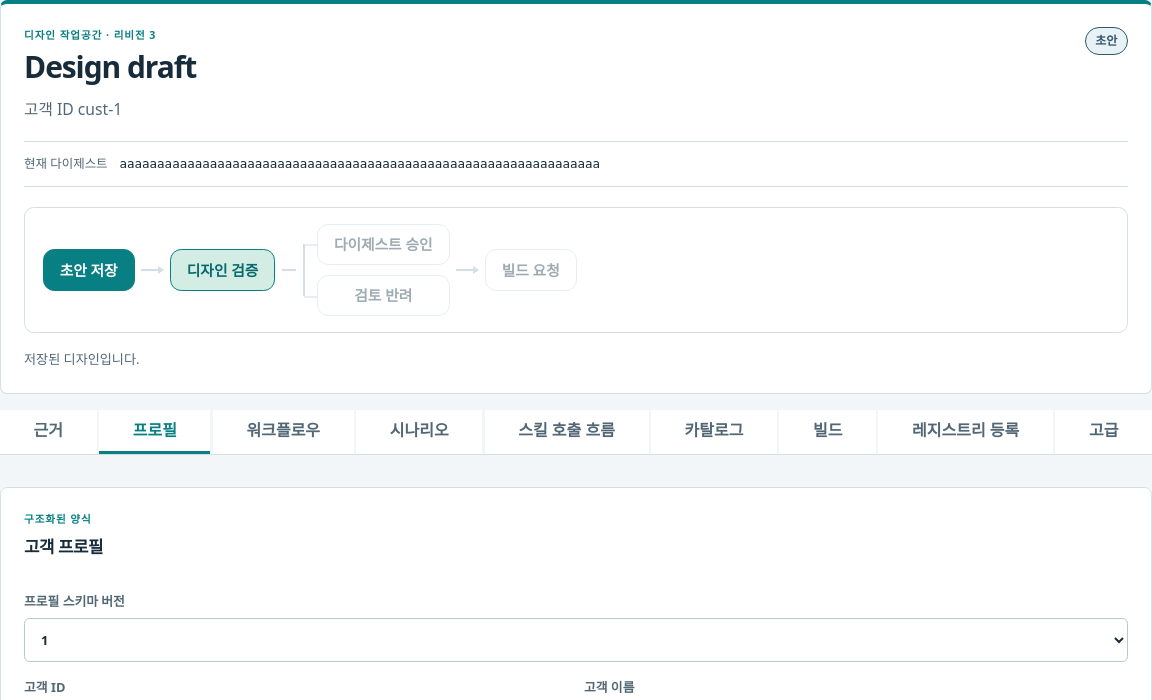
StudioDesignPageContent › falls back to the error finding when no design is returned
This screenshot has width=1152, height=700.
Check: the heading "Design draft" is shown, box [24,50,196,83]
Click the button "디자인 검증" at (223, 270), box [170,249,275,291]
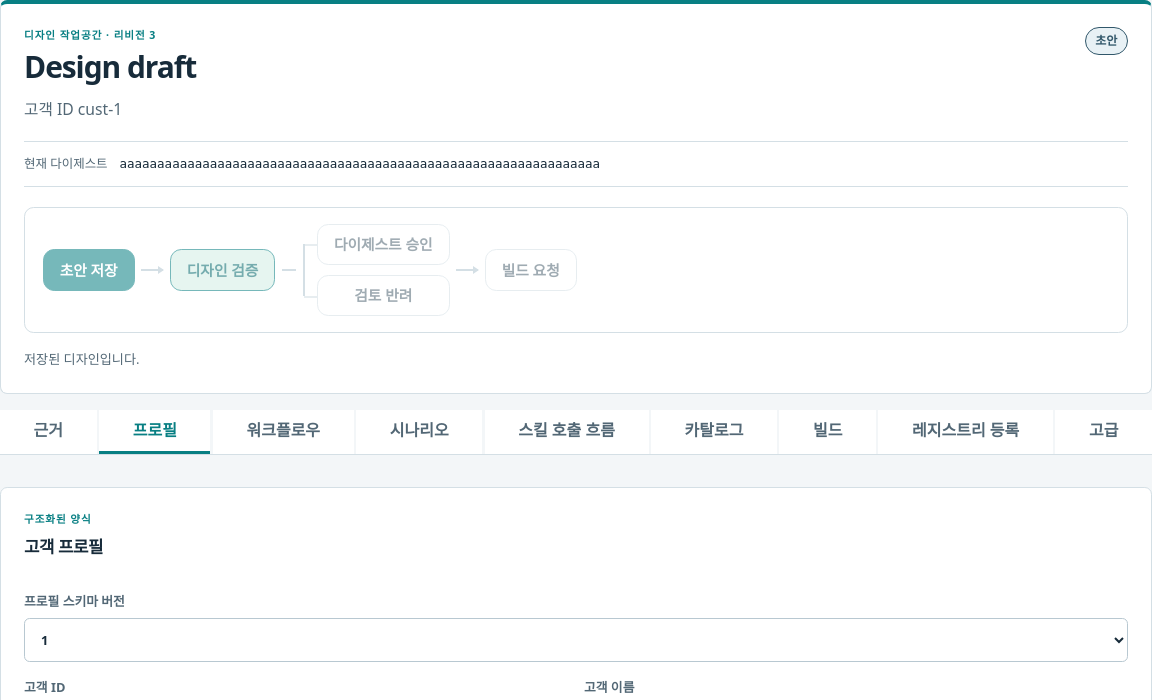
Click the tab "카탈로그" at (714, 432), box [651,410,777,454]
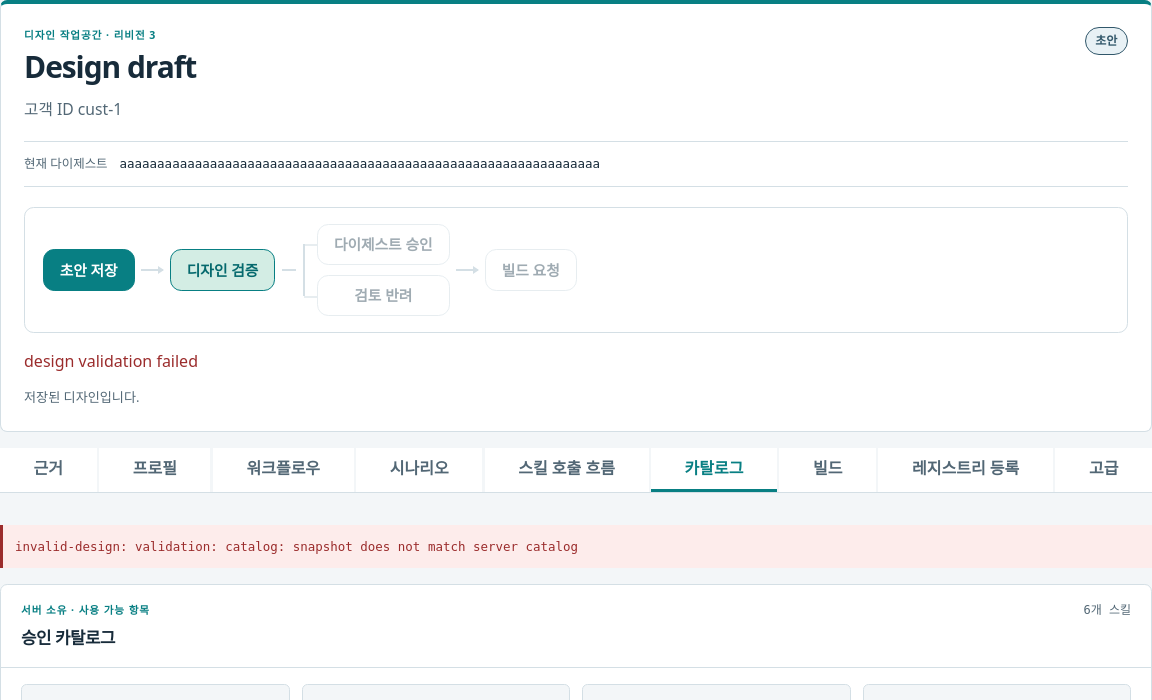
Check: the text "invalid-design: validation: catalog: snapshot does not match server catalog" is shown, box [0,525,1151,568]
